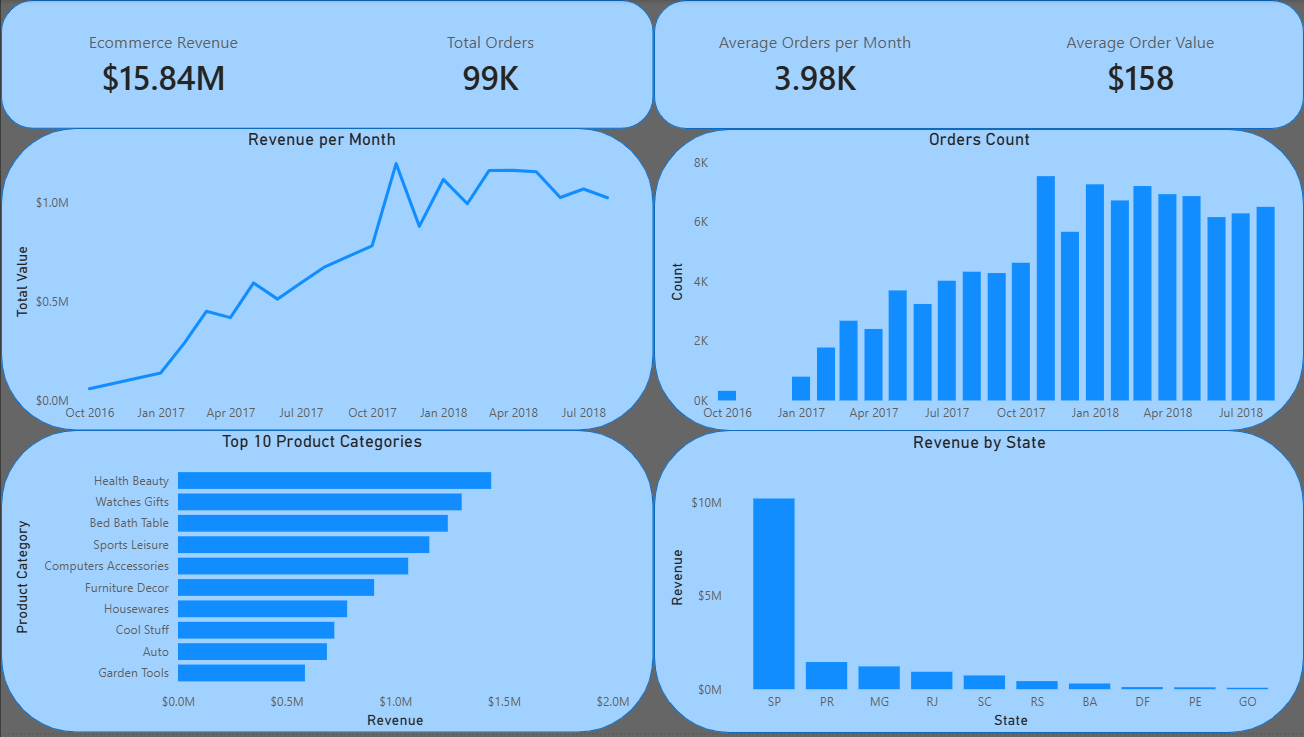

What the dashboard file says about the page in this screenshot:
{"tool":"powerbi","page":{"name":"Business Performance","canvas":[1280,720],"ordinal":0},"visuals":[{"type":"group","id":"g1","title":"Backround","box":[0,0,1280,720.1],"z":0},{"type":"shape","box":[0,0,641,126.6],"z":0,"group":"g1"},{"type":"cardVisual","fields":{"Data":["Sum(public vw_top_sellers.total_revenue)"]},"box":[0,0,319.8,126.9],"z":1000},{"type":"shape","box":[641.5,0,638.5,126.7],"z":1000,"group":"g1"},{"type":"cardVisual","fields":{"Data":["Avg(public vw_monthly_revenue.average_value)"]},"box":[959.7,0,319.6,126.6],"z":2000},{"type":"shape","box":[0,125.7,641,297.2],"z":2000,"group":"g1"},{"type":"cardVisual","fields":{"Data":["Avg(public vw_monthly_revenue.number_of_orders)"]},"box":[639.5,0,320.2,126.7],"z":3000},{"type":"shape","box":[641.5,126.7,638.5,296.7],"z":3000,"group":"g1"},{"type":"cardVisual","fields":{"Data":["Sum(public vw_monthly_revenue.number_of_orders)"]},"box":[320.2,0,321.2,126.7],"z":4000},{"type":"shape","box":[0,422.8,641,297.2],"z":4000,"group":"g1"},{"type":"lineChart","title":"Revenue per Month","fields":{"Y":["Sum(public vw_monthly_revenue.total_value)"],"Category":["public vw_monthly_revenue.month"]},"box":[7.9,126.7,615,296.7],"z":5000},{"type":"shape","box":[641.5,422.4,638.5,297.7],"z":5000,"group":"g1"},{"type":"barChart","title":"Top 10 Product Categories","fields":{"Category":["public vw_top_product_categories.category_name"],"Y":["Sum(public vw_top_product_categories.revenue)"]},"box":[7.9,423.4,615,296.7],"z":6000},{"type":"columnChart","title":"Orders Count ","fields":{"Category":["public vw_monthly_revenue.month"],"Y":["Sum(public vw_monthly_revenue.number_of_orders)"]},"box":[651.3,126.7,619.9,296.7],"z":7000},{"type":"columnChart","title":"Revenue by State","fields":{"Category":["public vw_top_sellers.state"],"Y":["Sum(public vw_top_sellers.total_revenue)"]},"box":[651.3,424.4,619.9,295.7],"z":8000}]}

Visuals, with their boxes in screenshot pixels (x1, y1, x2, y2), scaled from the page's 1280x720 canvas onto the 1304x737 screenshot:
"Backround" group: bbox(0, 0, 1303, 736)
shape: bbox(0, 0, 653, 130)
cardVisual - Sum(public vw_top_sellers.total_revenue): bbox(0, 0, 326, 130)
shape: bbox(654, 0, 1303, 130)
cardVisual - Avg(public vw_monthly_revenue.average_value): bbox(978, 0, 1303, 130)
shape: bbox(0, 129, 653, 433)
cardVisual - Avg(public vw_monthly_revenue.number_of_orders): bbox(651, 0, 978, 130)
shape: bbox(654, 130, 1303, 433)
cardVisual - Sum(public vw_monthly_revenue.number_of_orders): bbox(326, 0, 653, 130)
shape: bbox(0, 433, 653, 736)
"Revenue per Month" lineChart: bbox(8, 130, 635, 433)
shape: bbox(654, 432, 1303, 736)
"Top 10 Product Categories" barChart: bbox(8, 433, 635, 736)
"Orders Count " columnChart: bbox(664, 130, 1295, 433)
"Revenue by State" columnChart: bbox(664, 434, 1295, 736)
